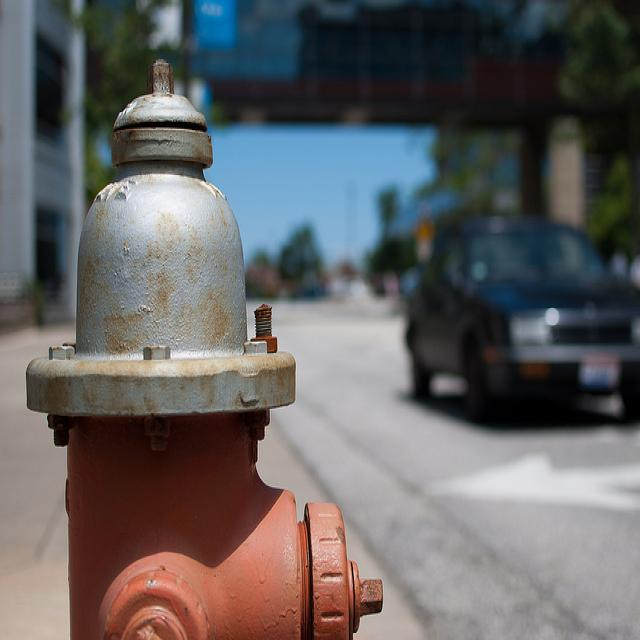Vehicle: (407, 210, 639, 422)
